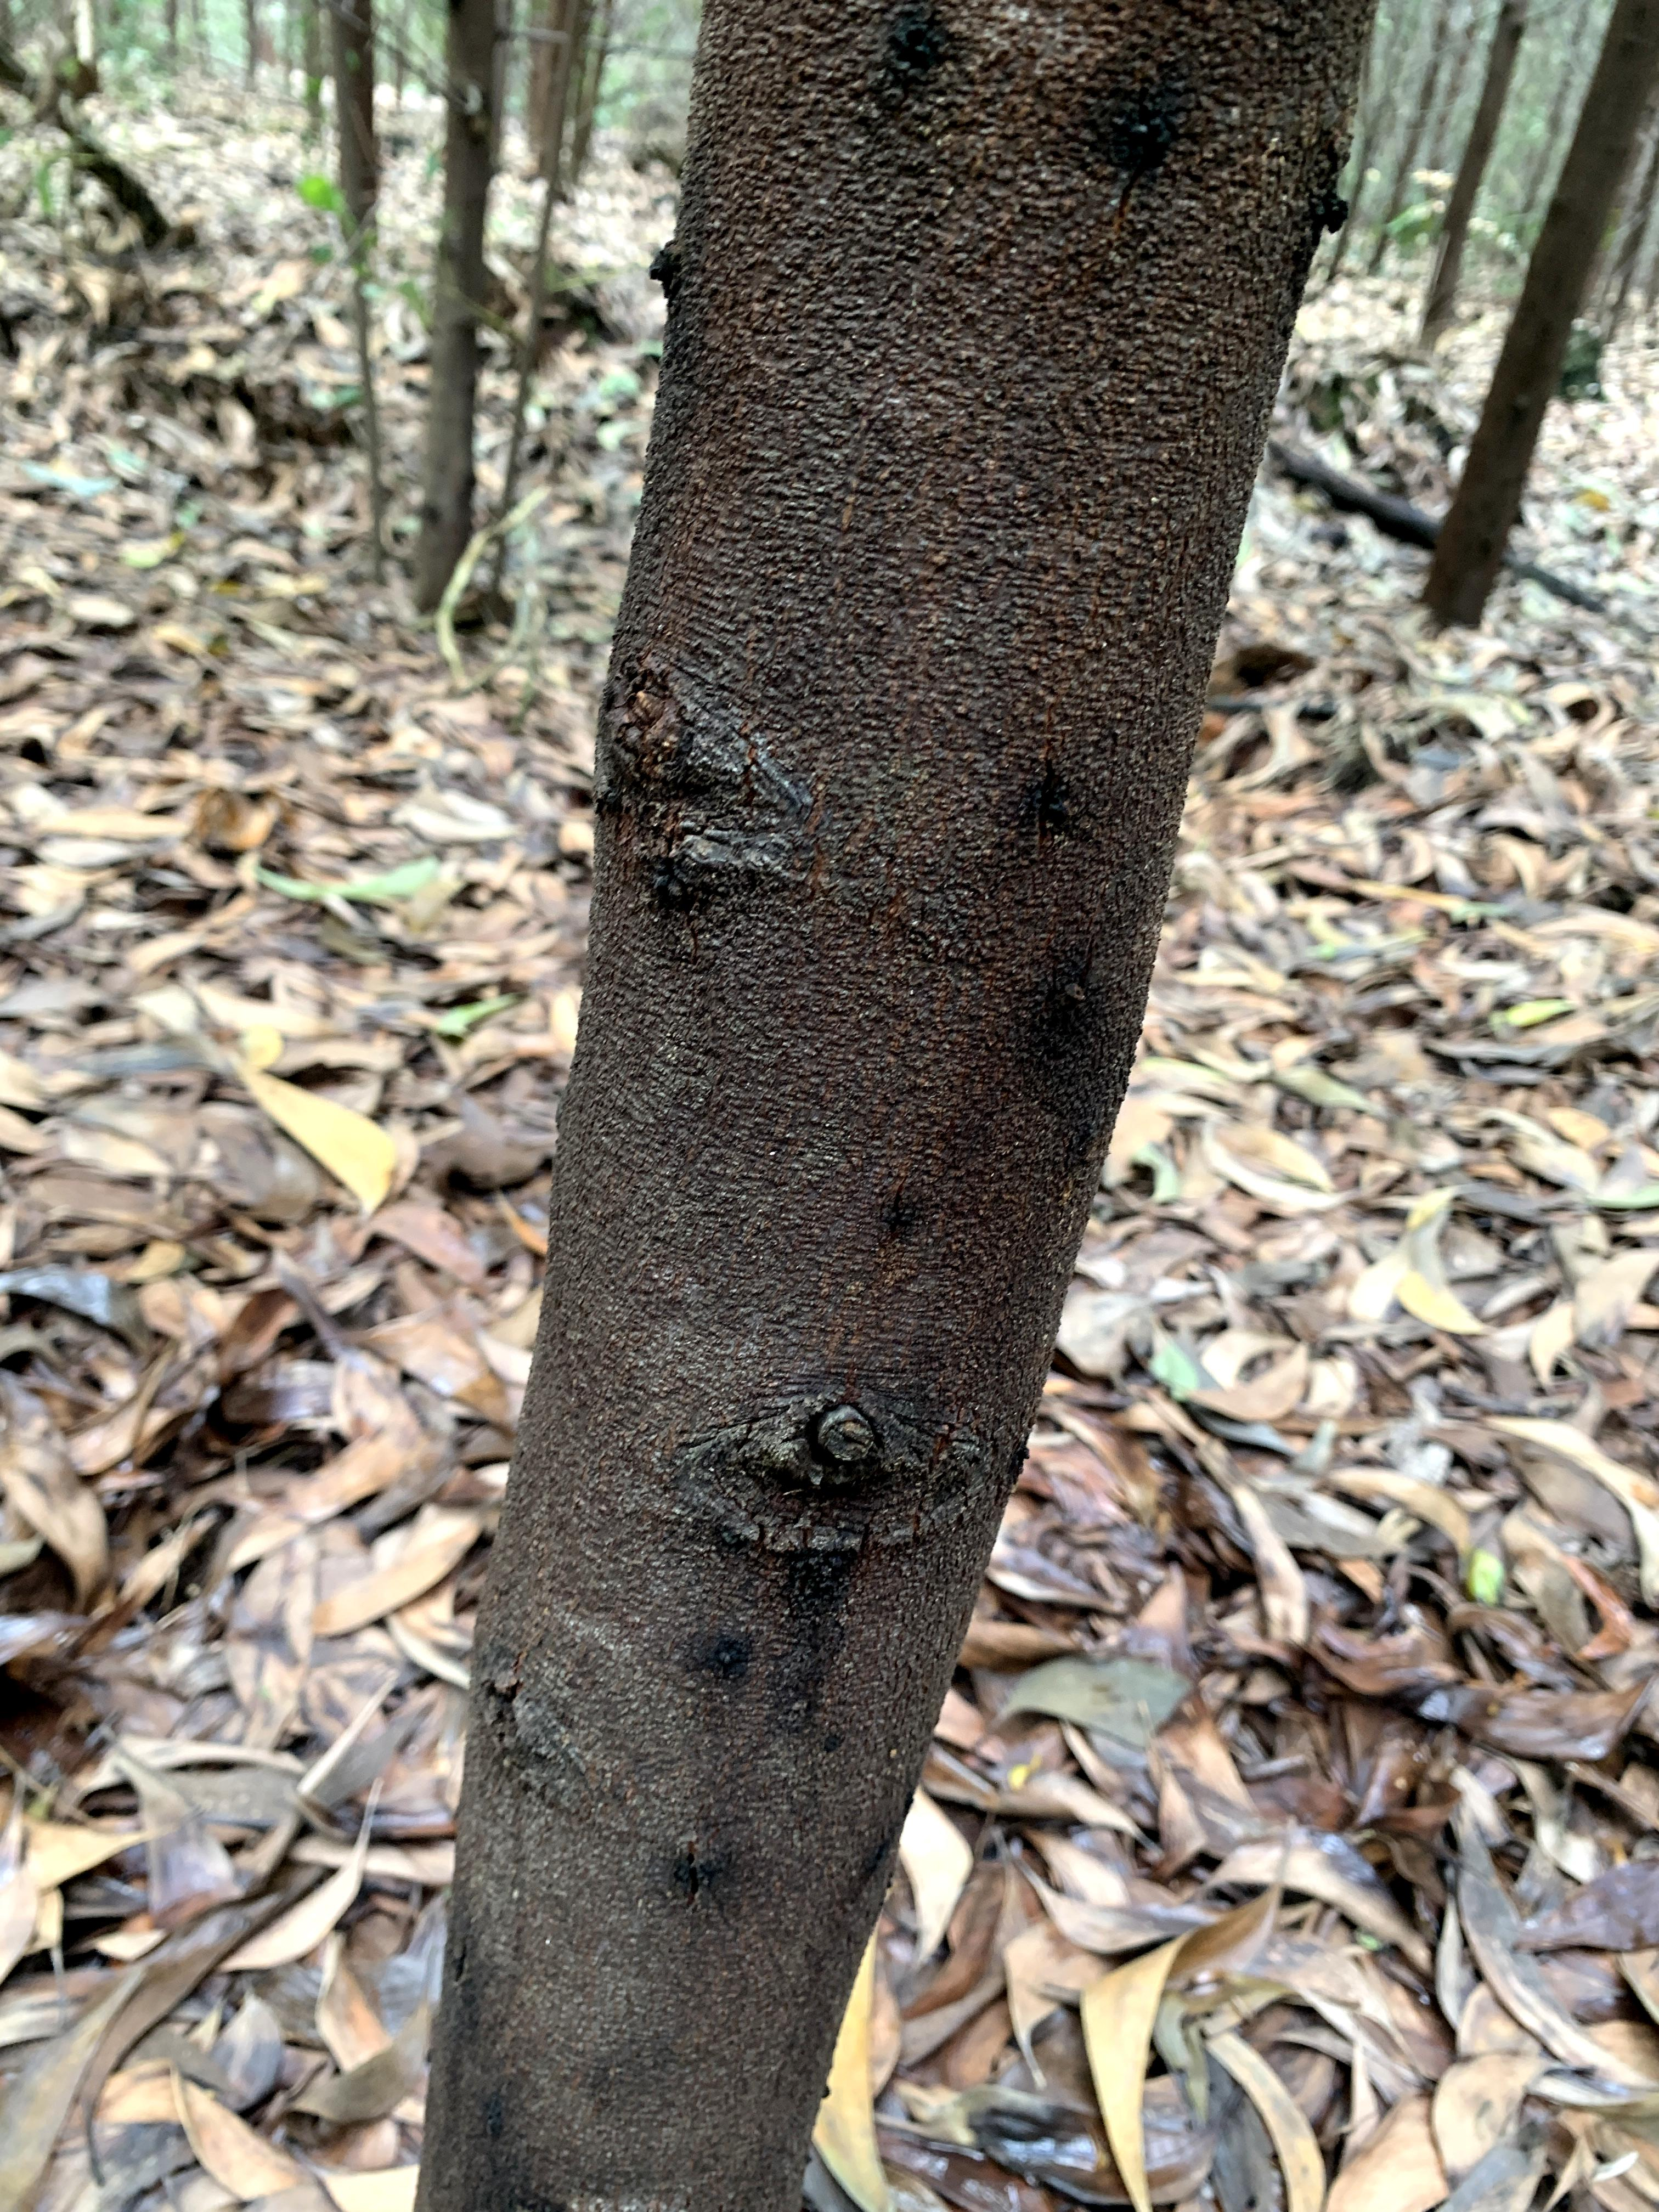Stem Borer: (1072, 64, 1201, 258), (1009, 735, 1091, 880), (657, 1825, 741, 1940), (868, 1165, 945, 1263), (432, 1916, 495, 2034)
